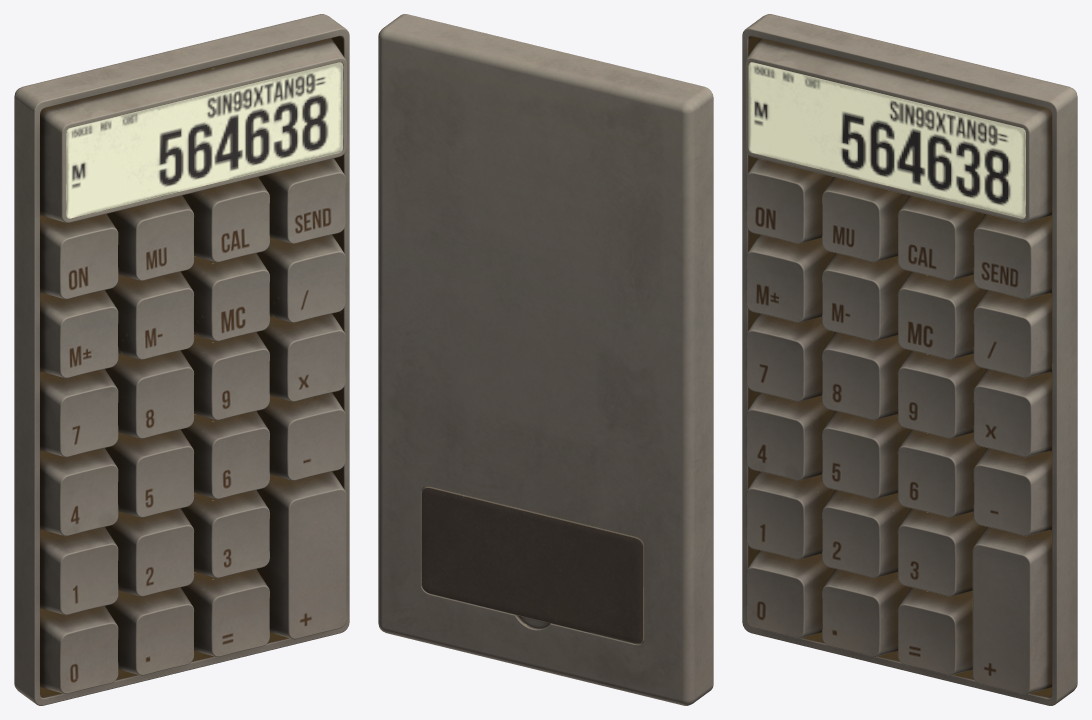
File: gem.glb
The picture shows the model from 3 angles, left to right: view 1: azimuth 30°, elevation 25°; view 2: azimuth 150°, elevation 25°; view 3: azimuth 330°, elevation 25°; orthographic projection.
Parts seen in each view (by area): view 1: calc.001_low, calc.003_low, calc.002_low, calc.004_low; view 2: calc.003_low, calc_low; view 3: calc.001_low, calc.003_low, calc.002_low, calc.004_low.
Part boxes in pixels (left/top/right/bottom): calc.001_low: left=40, top=158, right=346, bottom=694; calc.003_low: left=14, top=14, right=349, bottom=705; calc.002_low: left=66, top=62, right=343, bottom=218; calc.004_low: left=40, top=38, right=346, bottom=222; calc.003_low: left=378, top=14, right=713, bottom=705; calc_low: left=421, top=486, right=644, bottom=644; calc.001_low: left=746, top=158, right=1051, bottom=694; calc.003_low: left=742, top=14, right=1077, bottom=705; calc.002_low: left=748, top=62, right=1025, bottom=218; calc.004_low: left=745, top=38, right=1051, bottom=222.
Bounding box in the file's own units: 0.1041 × 0.1907 × 0.0208.
1 material, 1 textured.
